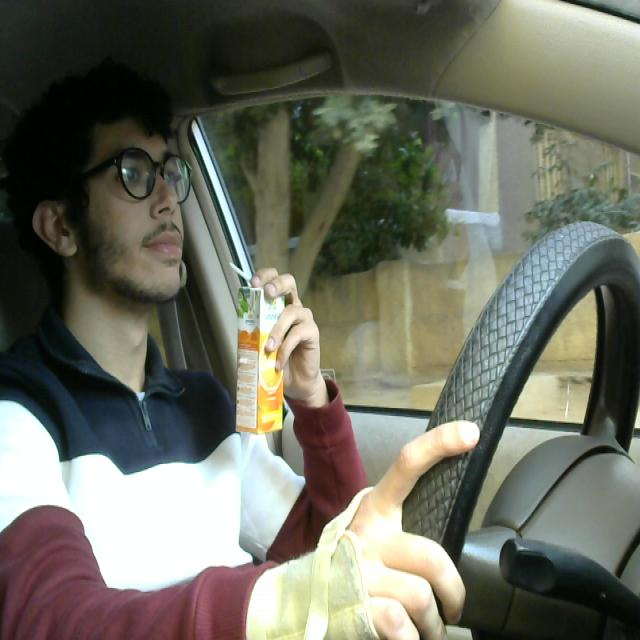drinking: (224, 253, 291, 438)
